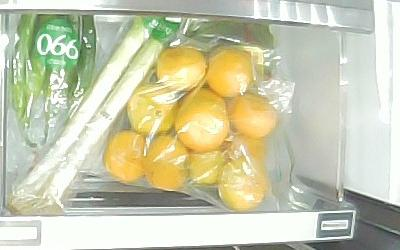tangerine_vinyl: (175, 87, 229, 152), (217, 158, 269, 209), (103, 130, 151, 183), (144, 135, 191, 188), (128, 83, 174, 134), (228, 92, 279, 138), (206, 48, 252, 97), (156, 48, 206, 89), (188, 148, 227, 186), (228, 131, 267, 157)
